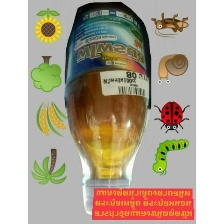insecticide: (61, 4, 152, 218)
